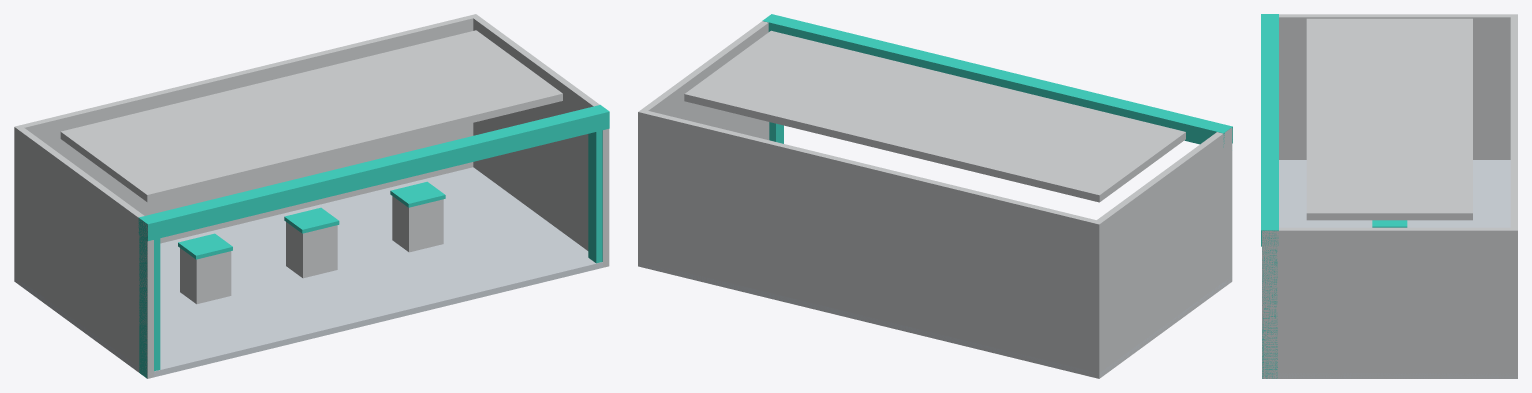
3 views of the same model, side by side, from view 1: azimuth 30°, elevation 25°; view 2: azimuth 150°, elevation 25°; view 3: azimuth 270°, elevation 25° (orthographic). The views are drawn at different scales.
Parts seen in each view (by area): view 1: Exhibition Booth Concept; view 2: Exhibition Booth Concept; view 3: Exhibition Booth Concept.
Part boxes in pixels (bbox=[...]): Exhibition Booth Concept: bbox=[14, 14, 609, 378]; Exhibition Booth Concept: bbox=[638, 14, 1232, 378]; Exhibition Booth Concept: bbox=[1261, 14, 1517, 378].
Bounding box in the file's own units: 10 × 3.34 × 5.02.
